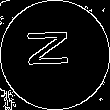N_E: (29, 34, 81, 76)
